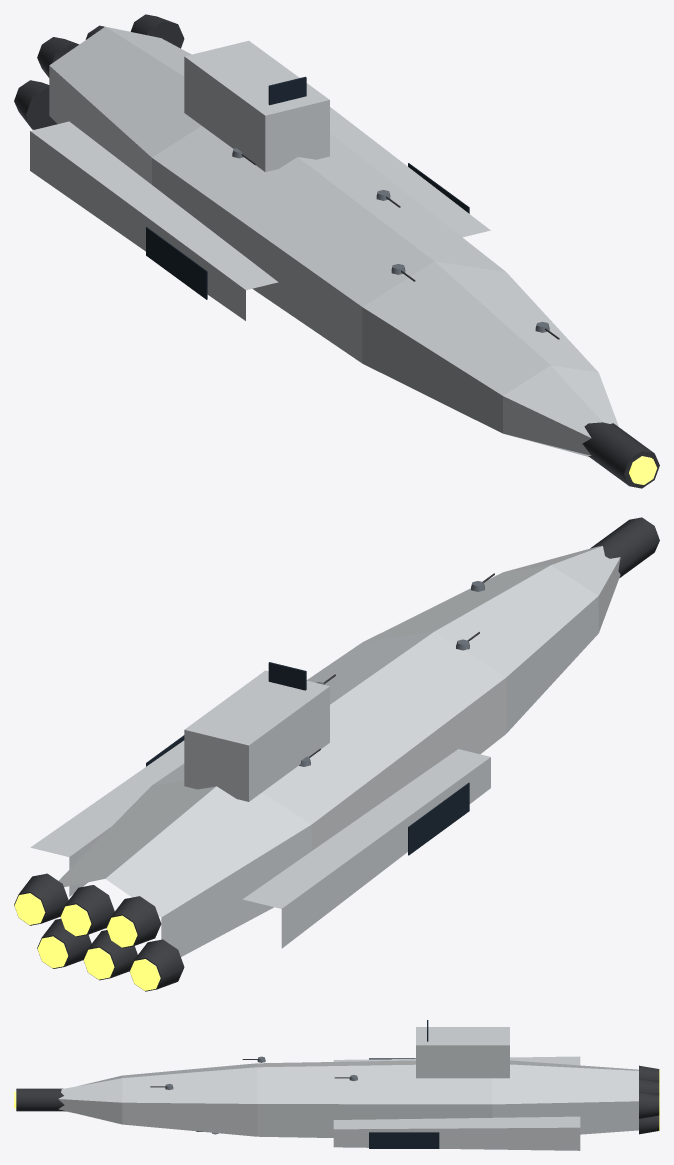
The model's file is space_ship_battleship_mk1.glb.
3 views of the same model, one above another, from view 1: azimuth 30°, elevation 25°; view 2: azimuth 150°, elevation 25°; view 3: azimuth 270°, elevation 25° (orthographic). The views are drawn at different scales.
Parts seen in each view (by area): view 1: body, main_gun, hangar_r, engine_0, engine_5, engine_1; view 2: body, main_gun, engine_0, engine_1, engine_5, engine_3, hangar_r, engine_4, engine_2; view 3: body, hangar_l, main_gun, engine_5, engine_4, engine_1, engine_3.
Boxes of the visible parts, x1,y1,x2,y2 form: body: [30, 26, 618, 456]; main_gun: [582, 422, 659, 488]; hangar_r: [146, 227, 207, 299]; engine_0: [14, 80, 57, 129]; engine_5: [130, 14, 184, 48]; engine_1: [37, 37, 78, 77]; body: [30, 546, 620, 956]; main_gun: [590, 517, 659, 577]; engine_0: [129, 939, 184, 991]; engine_1: [106, 896, 161, 948]; engine_5: [14, 873, 68, 925]; engine_3: [60, 885, 114, 936]; hangar_r: [408, 782, 469, 855]; engine_4: [37, 918, 91, 968]; engine_2: [83, 930, 137, 980]; body: [58, 1020, 638, 1150]; hangar_l: [369, 1132, 439, 1148]; main_gun: [14, 1088, 65, 1111]; engine_5: [639, 1092, 659, 1118]; engine_4: [639, 1115, 659, 1134]; engine_1: [639, 1065, 659, 1082]; engine_3: [639, 1079, 659, 1095].
Size of what is drawn, in the model's own units: 28.5 by 19.82 by 104.
